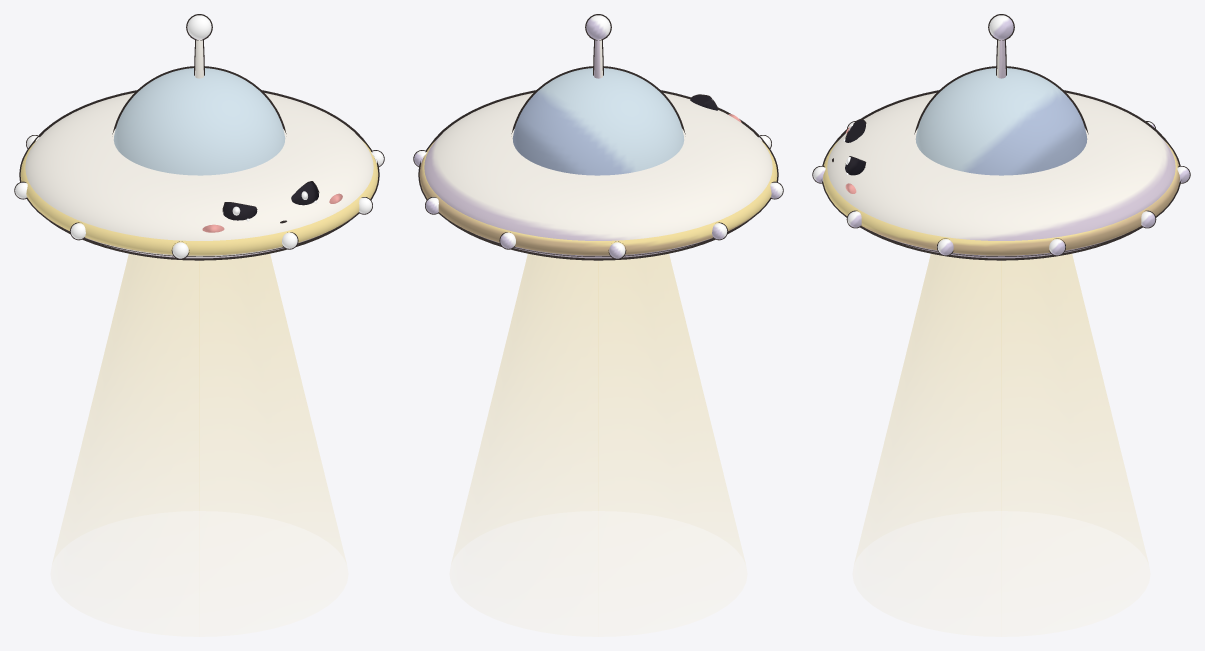
The model's file is ufo.glb.
The picture shows the model from 3 angles, left to right: view 1: azimuth 30°, elevation 25°; view 2: azimuth 150°, elevation 25°; view 3: azimuth 270°, elevation 25°; orthographic projection.
Visible parts, largest first — view 1: Beam (optional), Hull, Dome, RimBand, Hull_Outline, Eyes, RimBand_Outline, Dome_Outline; view 2: Beam (optional), Hull, Dome, RimBand, Hull_Outline, RimBand_Outline, Dome_Outline; view 3: Beam (optional), Hull, Dome, RimBand, Hull_Outline, RimBand_Outline, Eyes, Dome_Outline.
Part boxes in pixels (x1=…): Beam (optional): x1=55, y1=254, x2=343, y2=553; Hull: x1=25, y1=93, x2=373, y2=258; Dome: x1=113, y1=68, x2=285, y2=175; RimBand: x1=20, y1=140, x2=378, y2=255; Hull_Outline: x1=24, y1=90, x2=372, y2=260; Eyes: x1=223, y1=181, x2=318, y2=220; RimBand_Outline: x1=19, y1=145, x2=379, y2=256; Dome_Outline: x1=112, y1=66, x2=286, y2=134; Beam (optional): x1=454, y1=254, x2=742, y2=553; Hull: x1=424, y1=93, x2=772, y2=258; Dome: x1=512, y1=68, x2=684, y2=175; RimBand: x1=419, y1=140, x2=777, y2=255; Hull_Outline: x1=425, y1=90, x2=773, y2=260; RimBand_Outline: x1=418, y1=145, x2=778, y2=256; Dome_Outline: x1=511, y1=66, x2=685, y2=134; Beam (optional): x1=857, y1=254, x2=1145, y2=553; Hull: x1=827, y1=93, x2=1175, y2=258; Dome: x1=915, y1=68, x2=1087, y2=175; RimBand: x1=823, y1=140, x2=1179, y2=255; Hull_Outline: x1=826, y1=90, x2=1176, y2=260; RimBand_Outline: x1=821, y1=145, x2=1181, y2=256; Eyes: x1=845, y1=120, x2=865, y2=175; Dome_Outline: x1=914, y1=66, x2=1088, y2=134.
Size of the model in its own units: 2.66 by 4.55 by 2.79.
